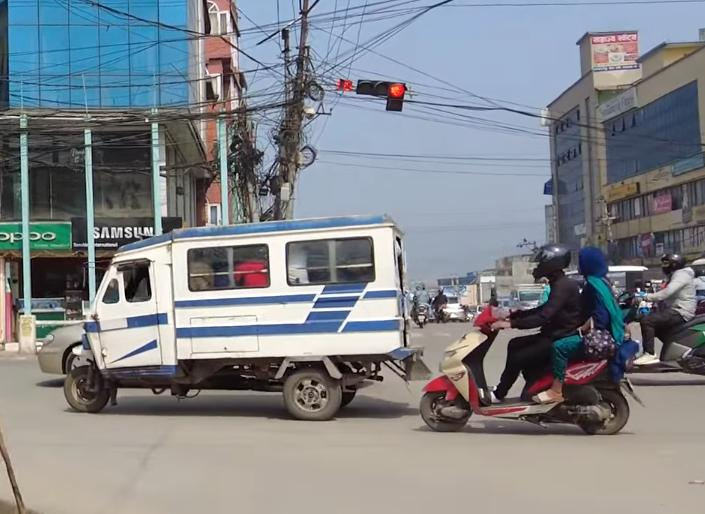scooter: (421, 298, 644, 450)
tempo: (57, 209, 415, 429)
